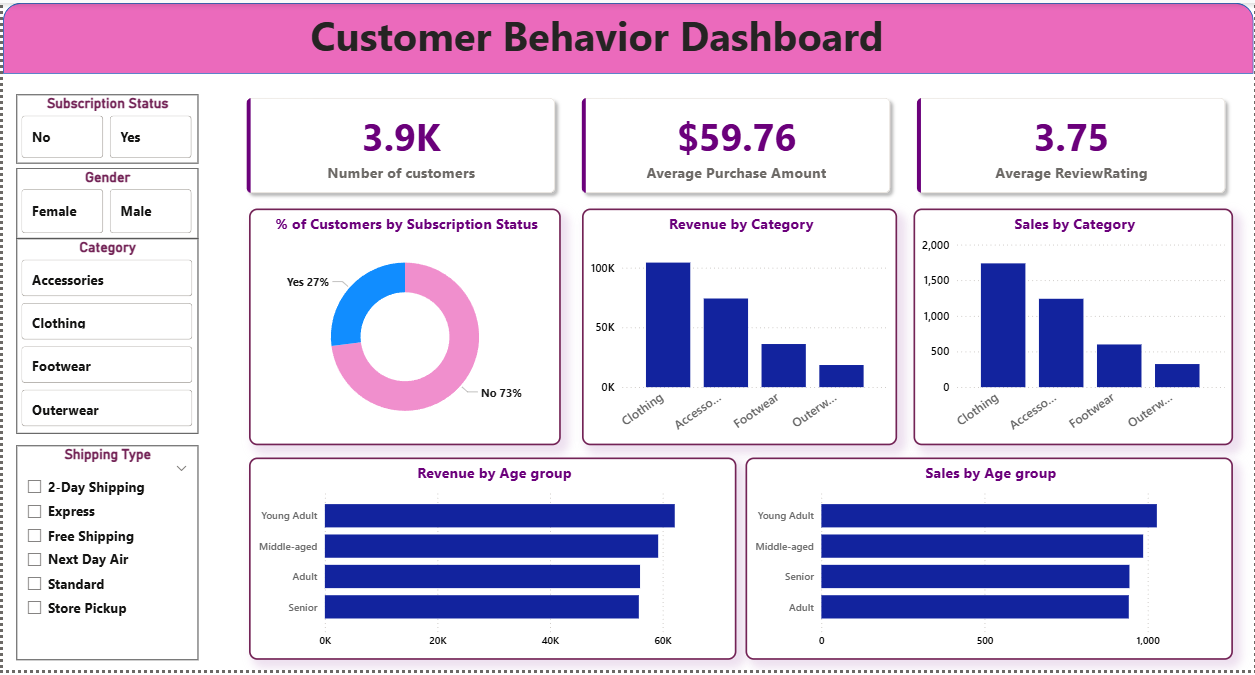

The dashboard page shown, as its layout file describes it:
{"tool":"powerbi","page":{"name":"Page 1","canvas":[1500,800],"ordinal":0},"visuals":[{"type":"cardVisual","fields":{"Data":["customer_behavior customer.Number of customers","customer_behavior customer.Average Purchase Amount","customer_behavior customer.Average ReviewRating"]},"box":[262.7,84.6,1232.4,172.7],"z":0},{"type":"shape","box":[0,0,1500,85],"z":1000},{"type":"donutChart","title":"% of Customers by Subscription Status","fields":{"Category":["customer_behavior customer.subscription_status"],"Y":["Count(customer_behavior customer.customer_id)"]},"box":[295.1,246.5,374.2,284.3],"z":3001},{"type":"textbox","box":[333.3,0,783.3,73.3],"z":3004},{"type":"clusteredColumnChart","title":"Revenue by Category","fields":{"Category":["customer_behavior customer.category"],"Y":["Sum(customer_behavior customer.purchase_amount)"]},"box":[694.5,246.5,377.8,284.3],"z":3005},{"type":"clusteredColumnChart","title":"Sales by Category","fields":{"Category":["customer_behavior customer.category"],"Y":["CountNonNull(customer_behavior customer.customer_id)"]},"box":[1092.1,246.5,383.2,284.3],"z":3006},{"type":"advancedSlicerVisual","fields":{"Values":["customer_behavior customer.subscription_status"]},"box":[16.2,109.7,217.7,82.8],"z":3007},{"type":"advancedSlicerVisual","fields":{"Values":["customer_behavior customer.gender"]},"box":[16.2,197.9,217.7,84.6],"z":3008},{"type":"advancedSlicerVisual","fields":{"Values":["customer_behavior customer.category"]},"box":[16.2,282.5,217.7,233.9],"z":3009},{"type":"slicer","title":"Shipping Type","fields":{"Values":["customer_behavior customer.shipping_type"]},"box":[16.2,530.7,217.7,257.3],"z":3010},{"type":"clusteredBarChart","title":"Revenue by Age group","fields":{"Category":["customer_behavior customer.age_group"],"Y":["Sum(customer_behavior customer.purchase_amount)"]},"box":[295.1,545.1,584.7,242.9],"z":3011},{"type":"clusteredBarChart","title":"Sales by Age group","fields":{"Category":["customer_behavior customer.age_group"],"Y":["CountNonNull(customer_behavior customer.customer_id)"]},"box":[890.6,545.1,584.7,242.9],"z":3012}]}

Visuals, with their boxes in screenshot pixels (x1, y1, x2, y2), scaled from the page's 1500x800 canvas onto the 1255x675 screenshot:
cardVisual - customer_behavior customer.Number of customers x customer_behavior customer.Average Purchase Amount: (x1=220, y1=71, x2=1251, y2=217)
shape: (x1=0, y1=0, x2=1254, y2=72)
"% of Customers by Subscription Status" donutChart: (x1=247, y1=208, x2=560, y2=448)
textbox: (x1=279, y1=0, x2=934, y2=62)
"Revenue by Category" clusteredColumnChart: (x1=581, y1=208, x2=897, y2=448)
"Sales by Category" clusteredColumnChart: (x1=914, y1=208, x2=1234, y2=448)
advancedSlicerVisual - customer_behavior customer.subscription_status: (x1=14, y1=93, x2=196, y2=162)
advancedSlicerVisual - customer_behavior customer.gender: (x1=14, y1=167, x2=196, y2=238)
advancedSlicerVisual - customer_behavior customer.category: (x1=14, y1=238, x2=196, y2=436)
"Shipping Type" slicer: (x1=14, y1=448, x2=196, y2=665)
"Revenue by Age group" clusteredBarChart: (x1=247, y1=460, x2=736, y2=665)
"Sales by Age group" clusteredBarChart: (x1=745, y1=460, x2=1234, y2=665)
